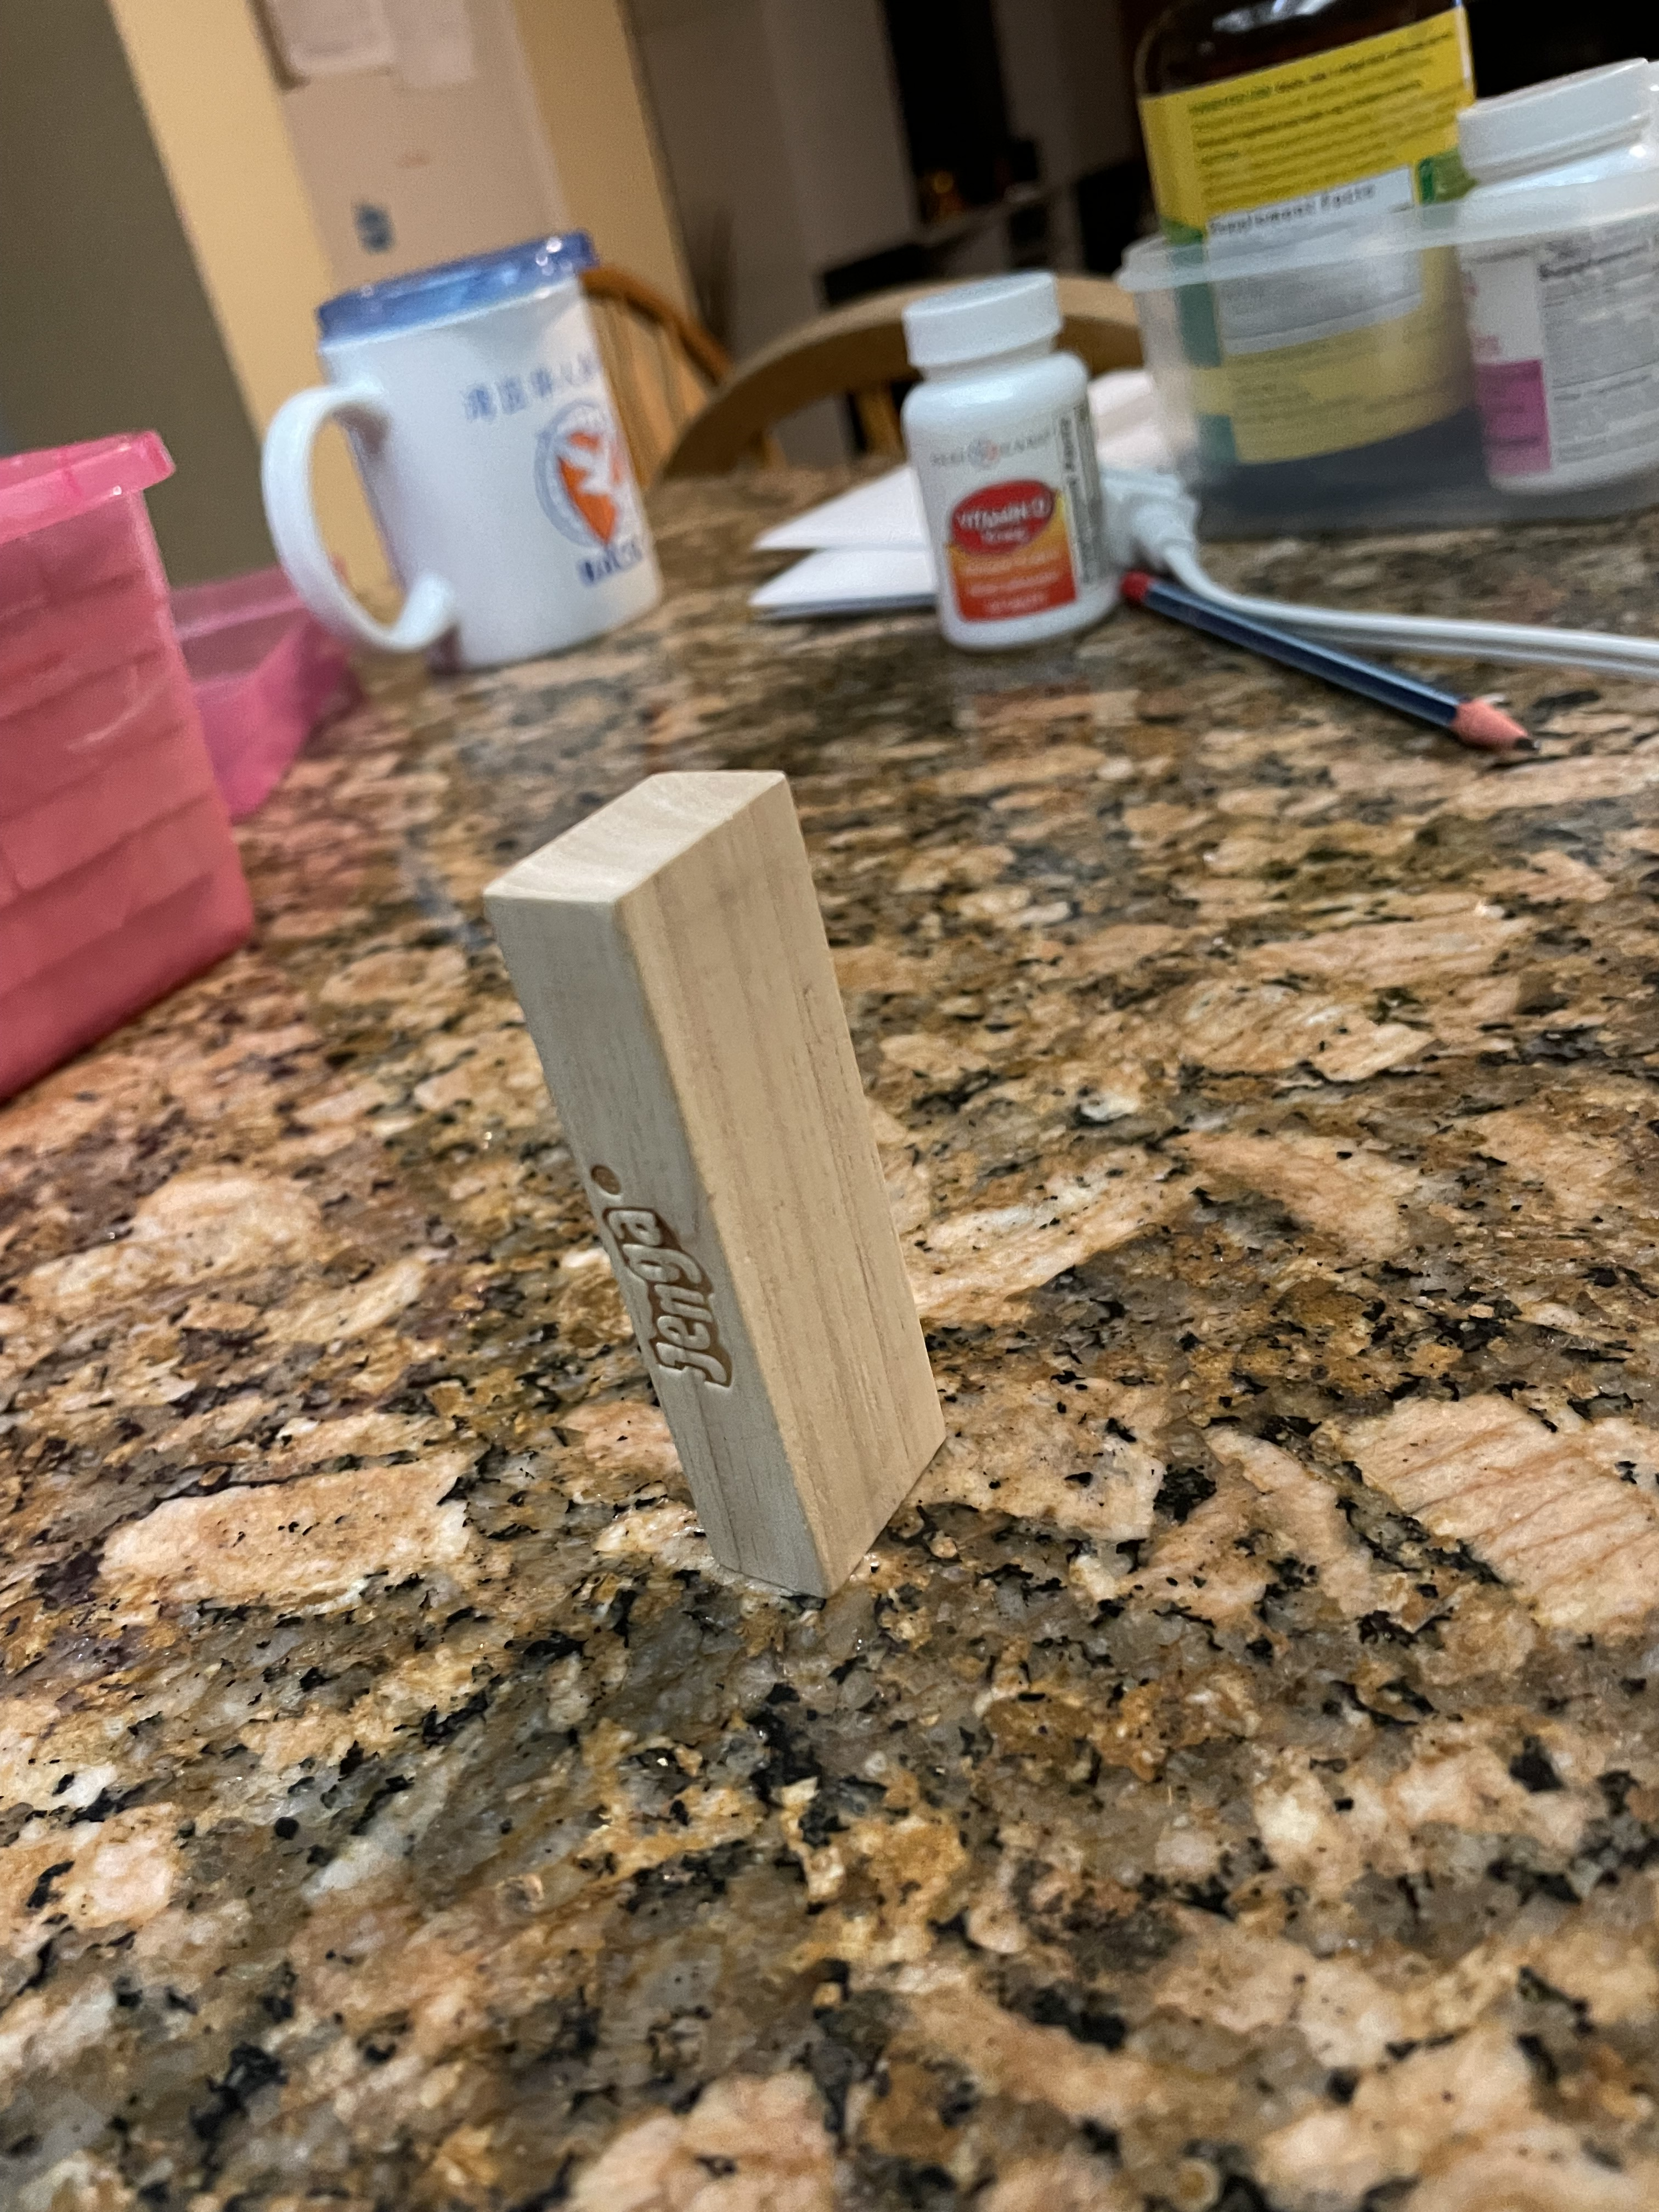jenga: (444, 765, 988, 1604)
